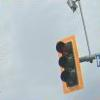traffic lights: (55, 36, 82, 93)
